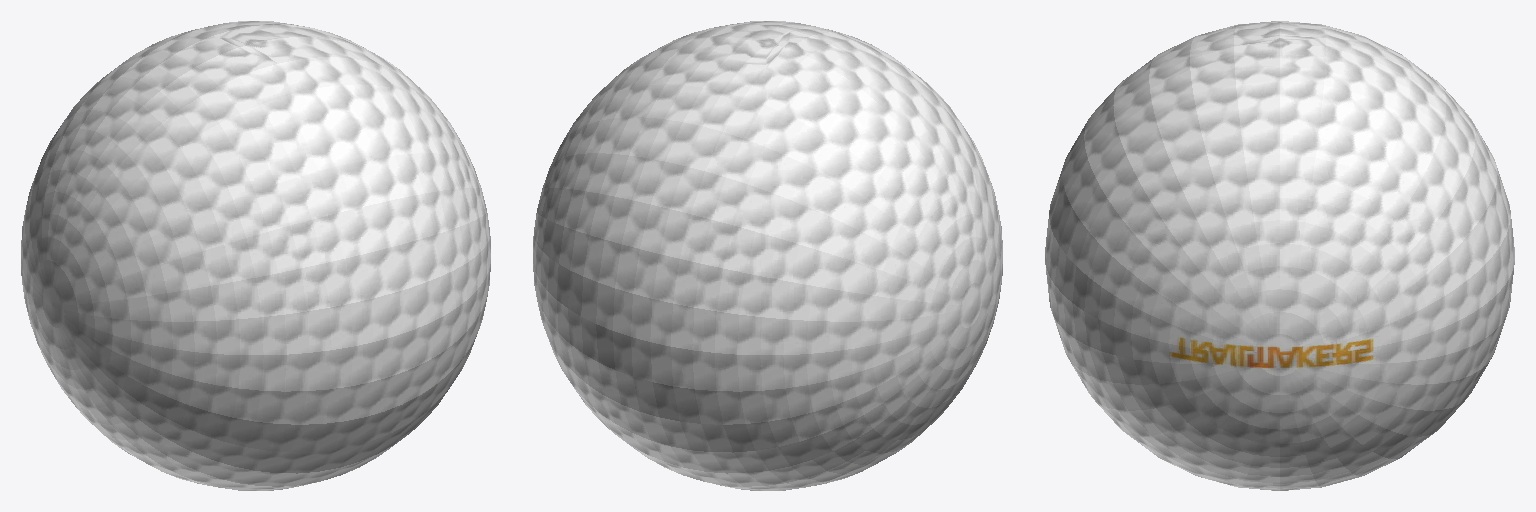
3 views of the same model, side by side, from view 1: azimuth 30°, elevation 25°; view 2: azimuth 150°, elevation 25°; view 3: azimuth 270°, elevation 25° (orthographic).
Parts seen in each view (by area): view 1: sphere; view 2: sphere; view 3: sphere.
Boxes of the visible parts, box(x1,y1,x2,y2) form: sphere: box(21, 21, 490, 490); sphere: box(533, 21, 1002, 490); sphere: box(1045, 21, 1514, 490).
Size of the model in its own units: 2 by 2 by 2.
1 materials, 1 textured.